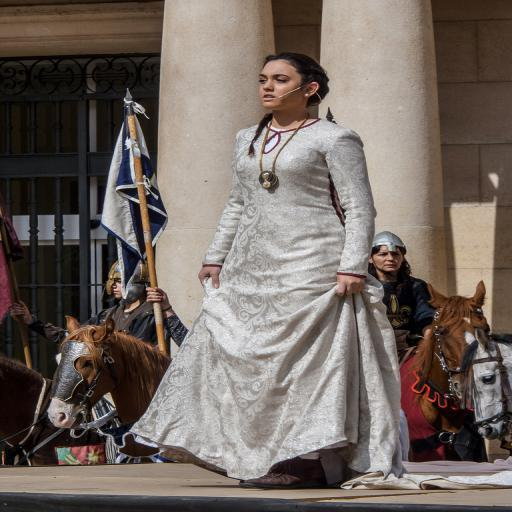horse: (44, 314, 168, 465), (402, 280, 492, 460), (0, 357, 108, 466), (460, 329, 512, 441)
